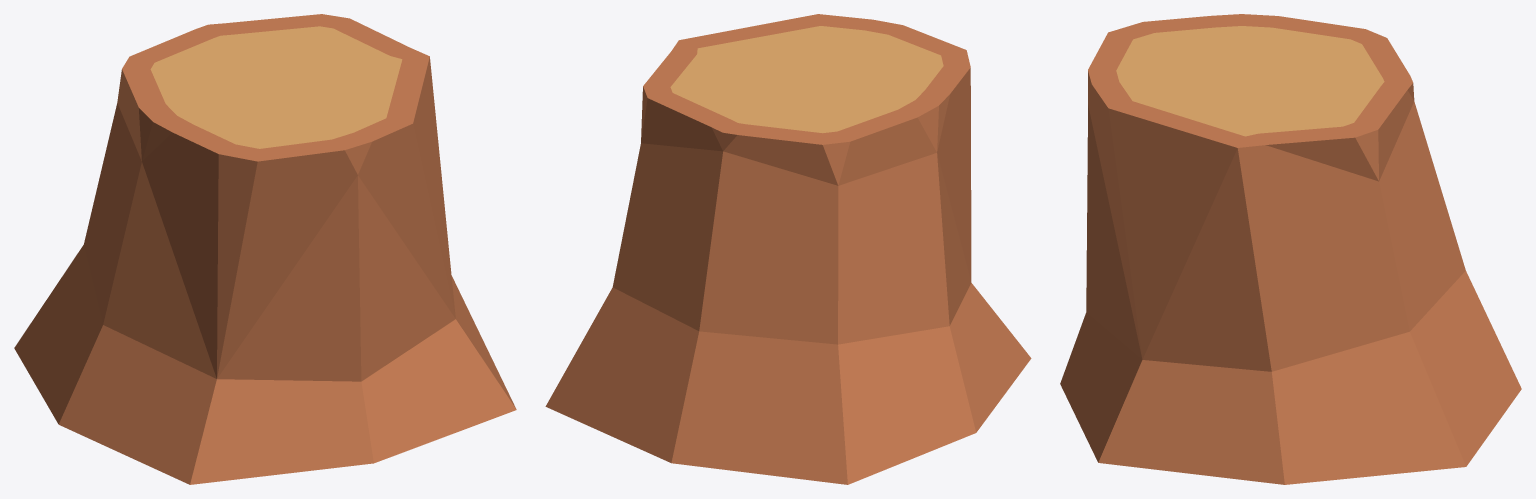
The model's file is CuttecTree2.fbx.
The picture shows the model from 3 angles, left to right: view 1: azimuth 30°, elevation 25°; view 2: azimuth 150°, elevation 25°; view 3: azimuth 270°, elevation 25°; orthographic projection. The views are drawn at different scales.
Parts seen in each view (by area): view 1: CutTree2; view 2: CutTree2; view 3: CutTree2.
Part boxes in pixels (x1,y1,x2,y2): CutTree2: [14, 14, 516, 484]; CutTree2: [545, 14, 1031, 484]; CutTree2: [1060, 14, 1521, 484].
Bounding box in the file's own units: 282 × 205 × 280.
